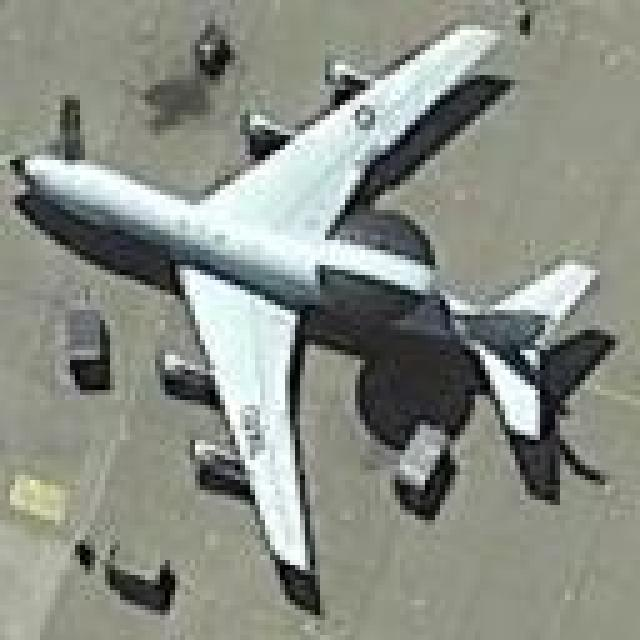E-3_TopDown: (5, 15, 620, 610)
